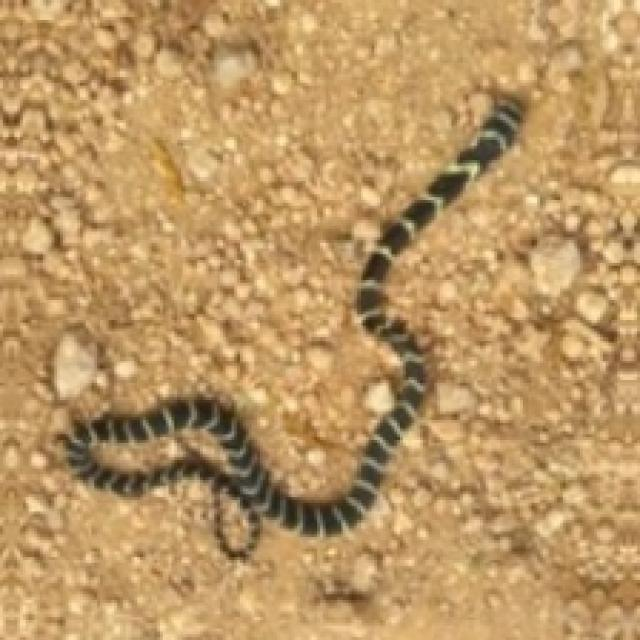king cobra: (66, 94, 523, 554)
